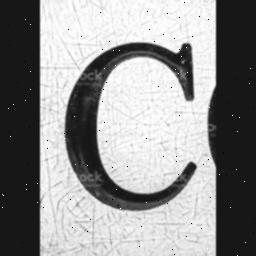c: (63, 34, 209, 218)
